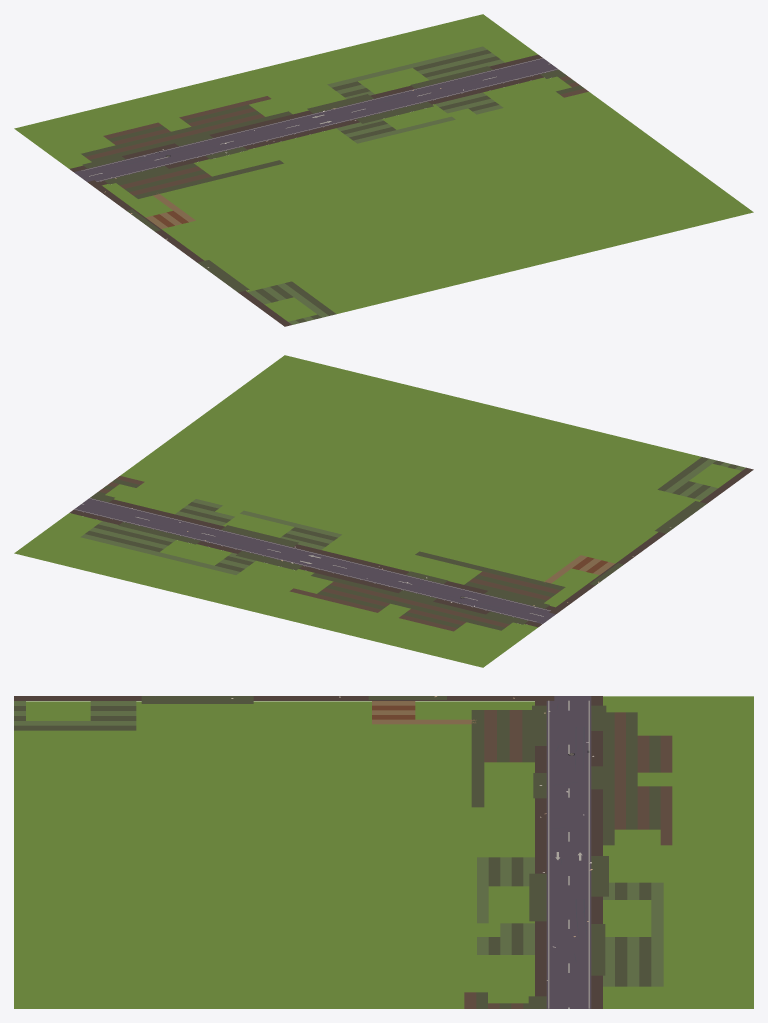
File: cure-14-1.glb
3 views of the same model, one above another, from view 1: azimuth 30°, elevation 25°; view 2: azimuth 150°, elevation 25°; view 3: azimuth 270°, elevation 25° (orthographic). The views are drawn at different scales.
Parts seen in each view (by area): view 1: cure-14-1; view 2: cure-14-1; view 3: cure-14-1.
Boxes of the visible parts, x1,y1,x2,y2 form: cure-14-1: [14, 14, 753, 326]; cure-14-1: [14, 355, 753, 667]; cure-14-1: [14, 696, 753, 1008].
Size of the model in its own units: 100 by 0.017 by 100.
